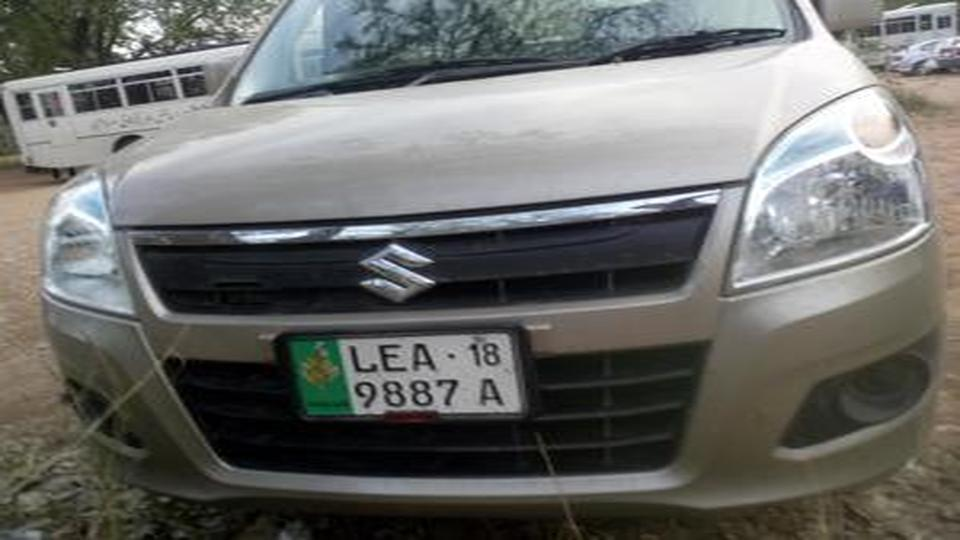NumberPlate: (272, 326, 538, 425)
